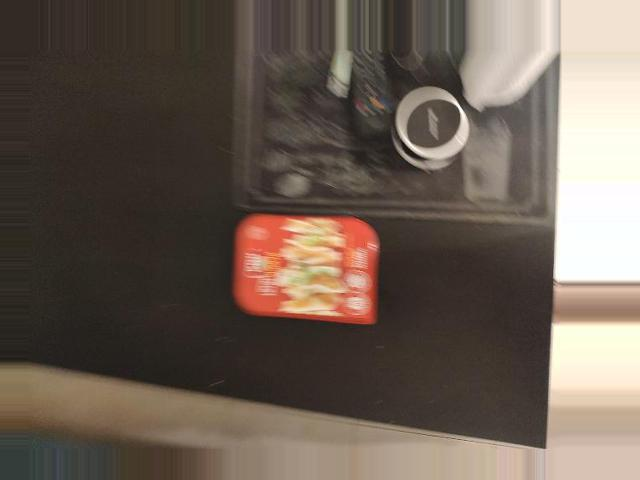cheese: (229, 202, 384, 331)
